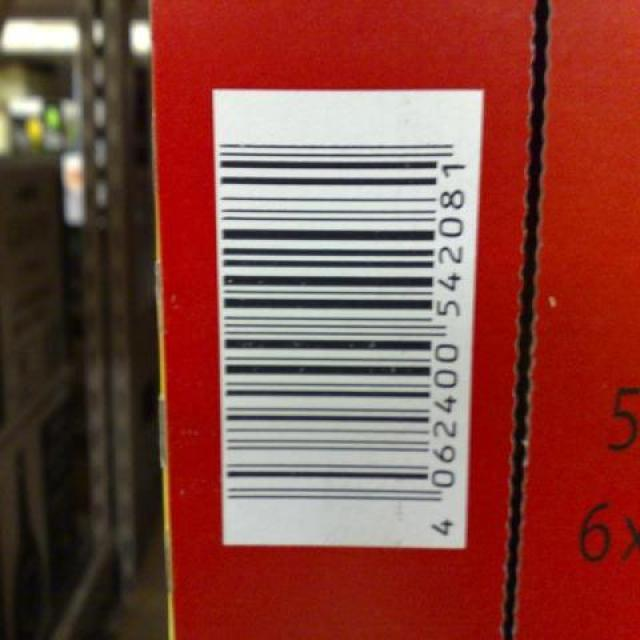Barcode: (213, 87, 484, 553)
